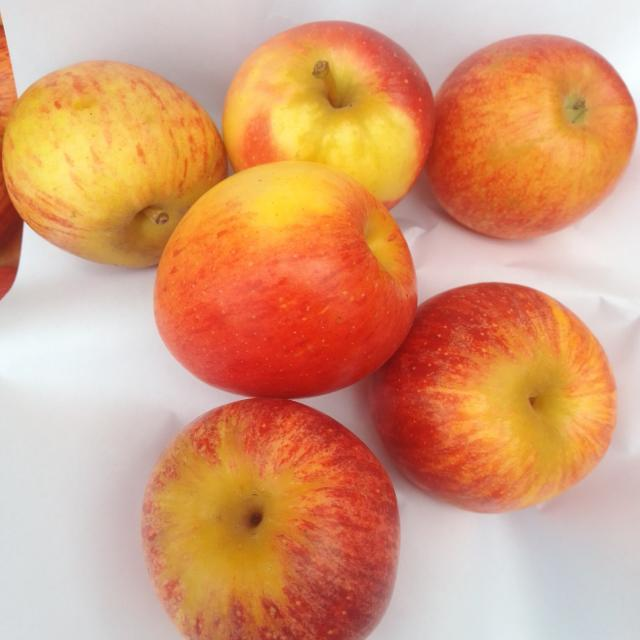Fresh Apple: (146, 403, 403, 640), (165, 168, 423, 394), (395, 290, 600, 502), (18, 67, 222, 265), (435, 30, 627, 238), (227, 23, 440, 204)
